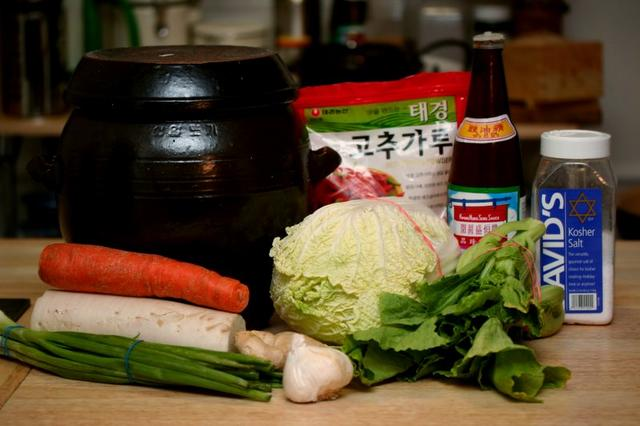cabbage: (267, 196, 460, 346)
